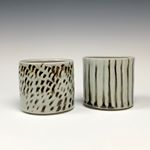cups: (15, 55, 76, 117), (80, 53, 140, 112)
